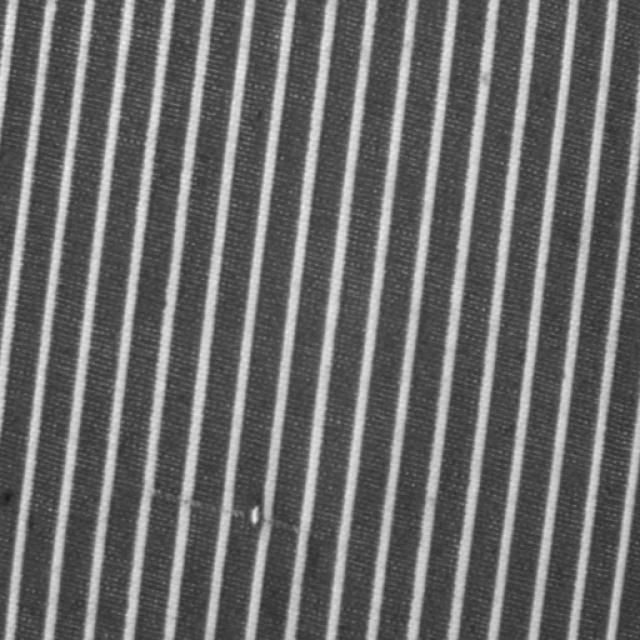Hole-Defect: (112, 472, 328, 551)
